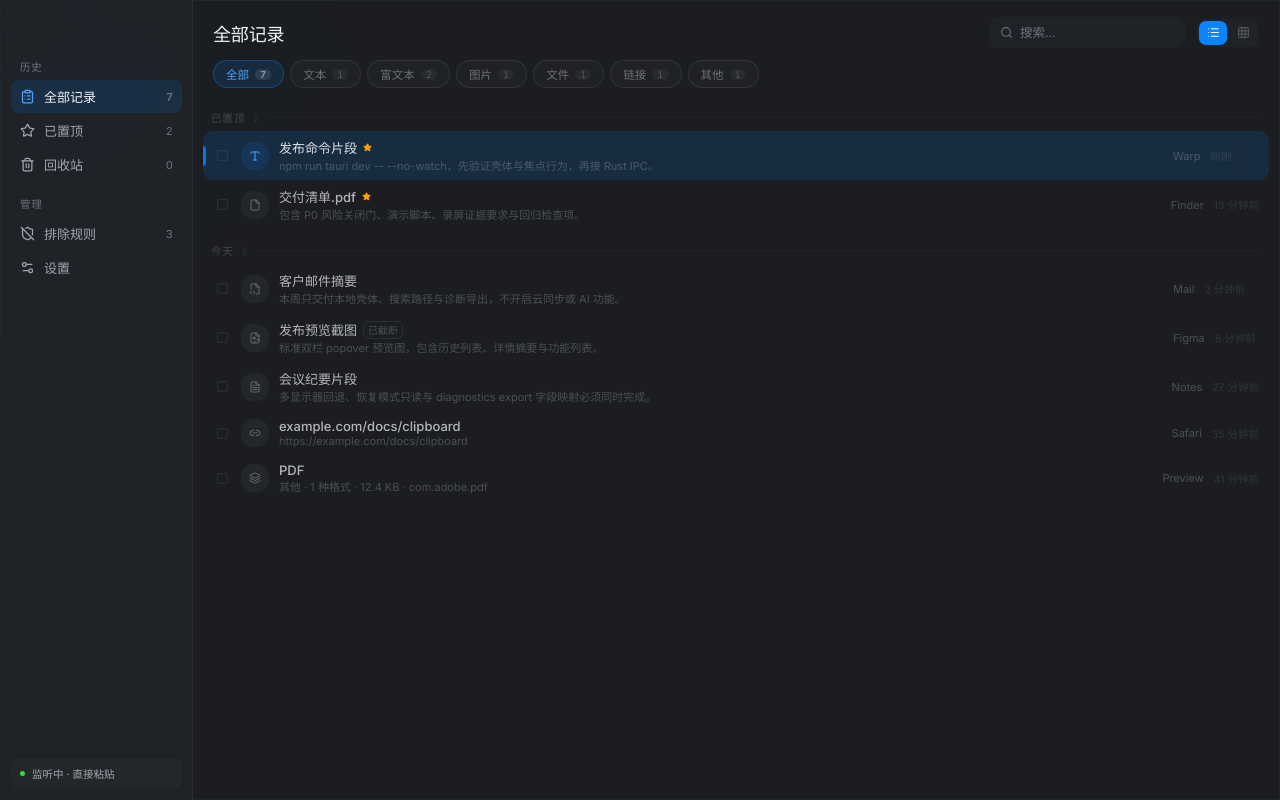
MainApp › 侧栏「已置顶」切换标题与列表内容（不再是死导航）
This screenshot has width=1280, height=800.
expect the text "客户邮件摘要" is shown: met, box [279, 271, 357, 290]
Click the 2nd text "已置顶": (64, 131) [44, 123, 83, 139]
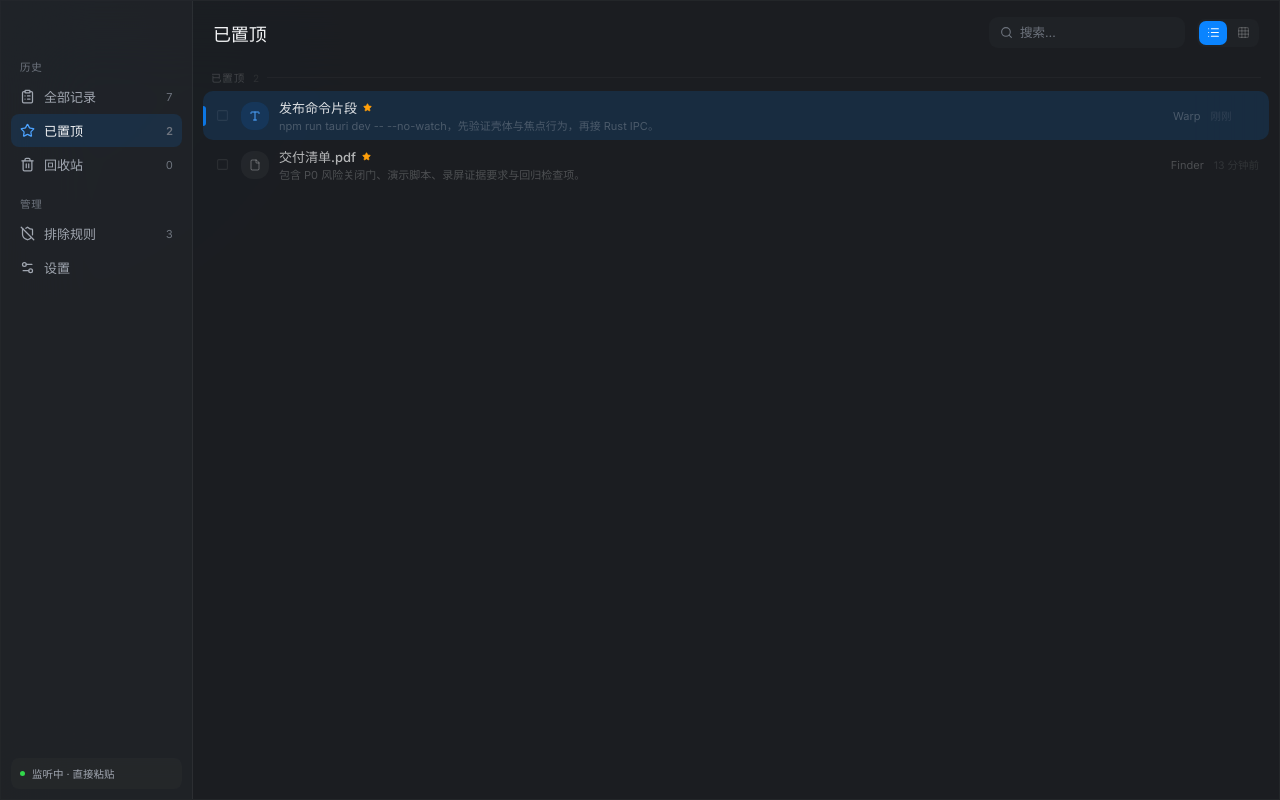
expect the text "发布命令片段" is shown: met, box [279, 98, 357, 117]
expect the heading "已置顶" is shown: met, box [213, 24, 266, 44]
expect the text "客户邮件摘要" is gone: met
